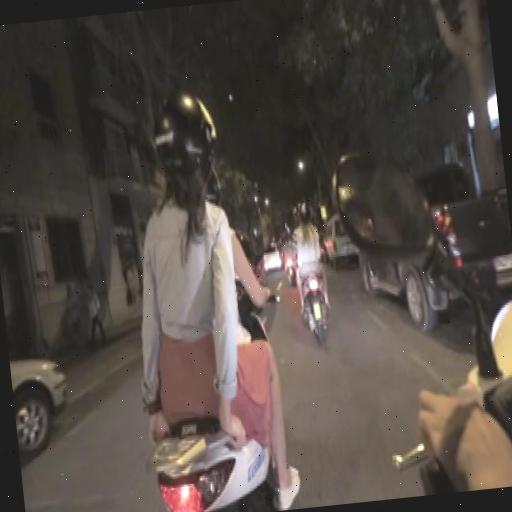helmet: (103, 69, 301, 512)
